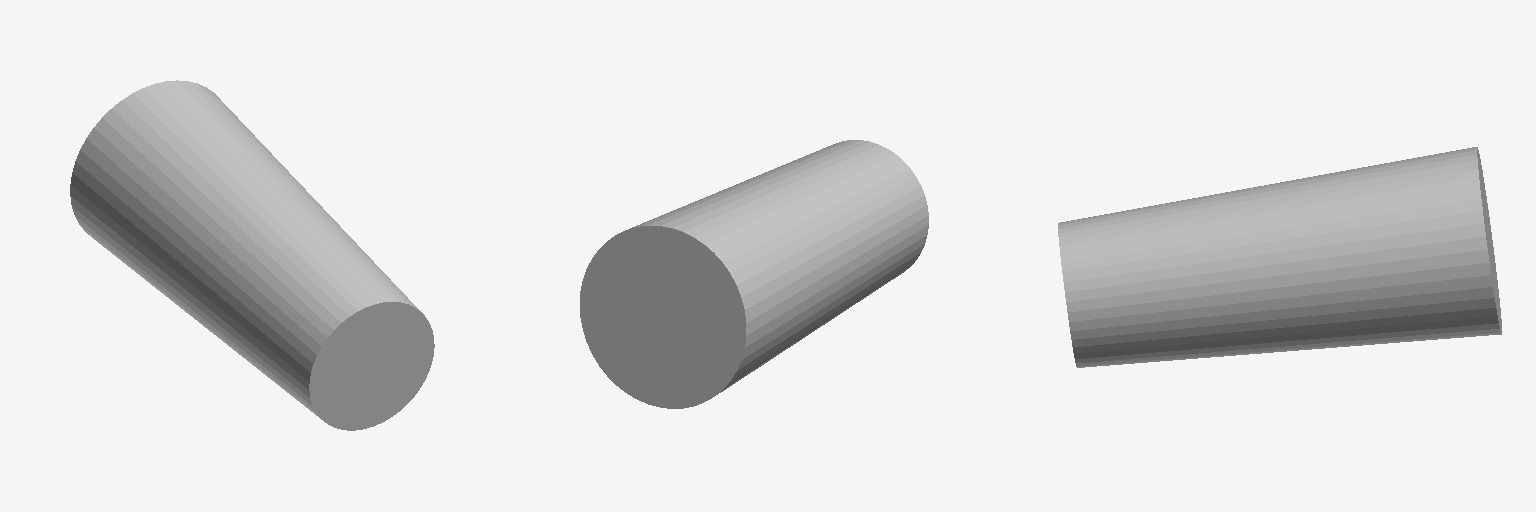
Rendered from Right Upper Arm.obj.
3 views of the same model, side by side, from view 1: azimuth 30°, elevation 25°; view 2: azimuth 150°, elevation 25°; view 3: azimuth 270°, elevation 25° (orthographic).
Parts seen in each view (by area): view 1: Right_Upper_Arm_Sphere.027; view 2: Right_Upper_Arm_Sphere.027; view 3: Right_Upper_Arm_Sphere.027.
Boxes of the visible parts, x1,y1,x2,y2 form: Right_Upper_Arm_Sphere.027: [70, 80, 434, 430]; Right_Upper_Arm_Sphere.027: [580, 140, 928, 408]; Right_Upper_Arm_Sphere.027: [1058, 147, 1501, 367].
Size of the model in its own units: 0.5493 by 0.6439 by 1.29.